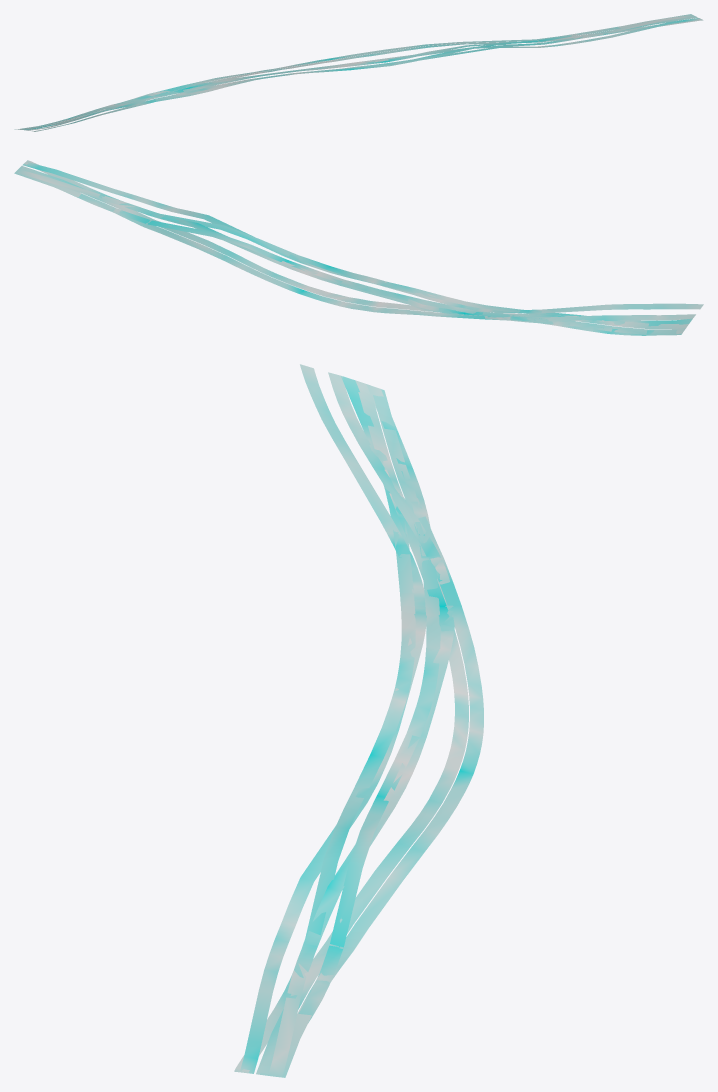
3 views of the same model, one above another, from view 1: azimuth 30°, elevation 25°; view 2: azimuth 150°, elevation 25°; view 3: azimuth 270°, elevation 25° (orthographic). The views are drawn at different scales.
Parts seen in each view (by area): view 1: SpaceCenter_Long3_GenerateRoad_Sand_TireTracks_Narrow_Mesh_x; view 2: SpaceCenter_Long3_GenerateRoad_Sand_TireTracks_Narrow_Mesh_x; view 3: SpaceCenter_Long3_GenerateRoad_Sand_TireTracks_Narrow_Mesh_x.
Part boxes in pixels (x1,y1,x2,y2): SpaceCenter_Long3_GenerateRoad_Sand_TireTracks_Narrow_Mesh_x: (14,14,703,131); SpaceCenter_Long3_GenerateRoad_Sand_TireTracks_Narrow_Mesh_x: (14,160,703,335); SpaceCenter_Long3_GenerateRoad_Sand_TireTracks_Narrow_Mesh_x: (234,364,483,1077).
Bounding box in the file's own units: 383 × 2304 × 144.
